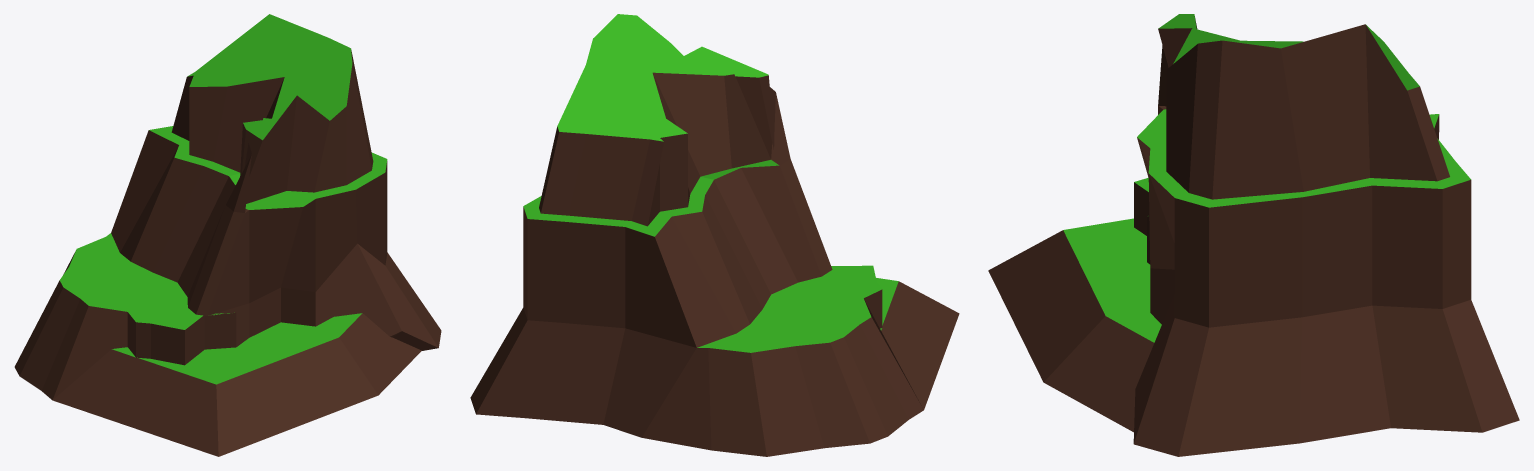
The model's file is Cliff1.fbx.
3 views of the same model, side by side, from view 1: azimuth 30°, elevation 25°; view 2: azimuth 150°, elevation 25°; view 3: azimuth 270°, elevation 25° (orthographic). The views are drawn at different scales.
Visible parts, largest first — view 1: Plane; view 2: Plane; view 3: Plane.
Part boxes in pixels (x1,y1,x2,y2): Plane: [14, 14, 441, 456]; Plane: [470, 14, 959, 456]; Plane: [988, 14, 1519, 456].
Size of the model in its own units: 217 by 164 by 214.
